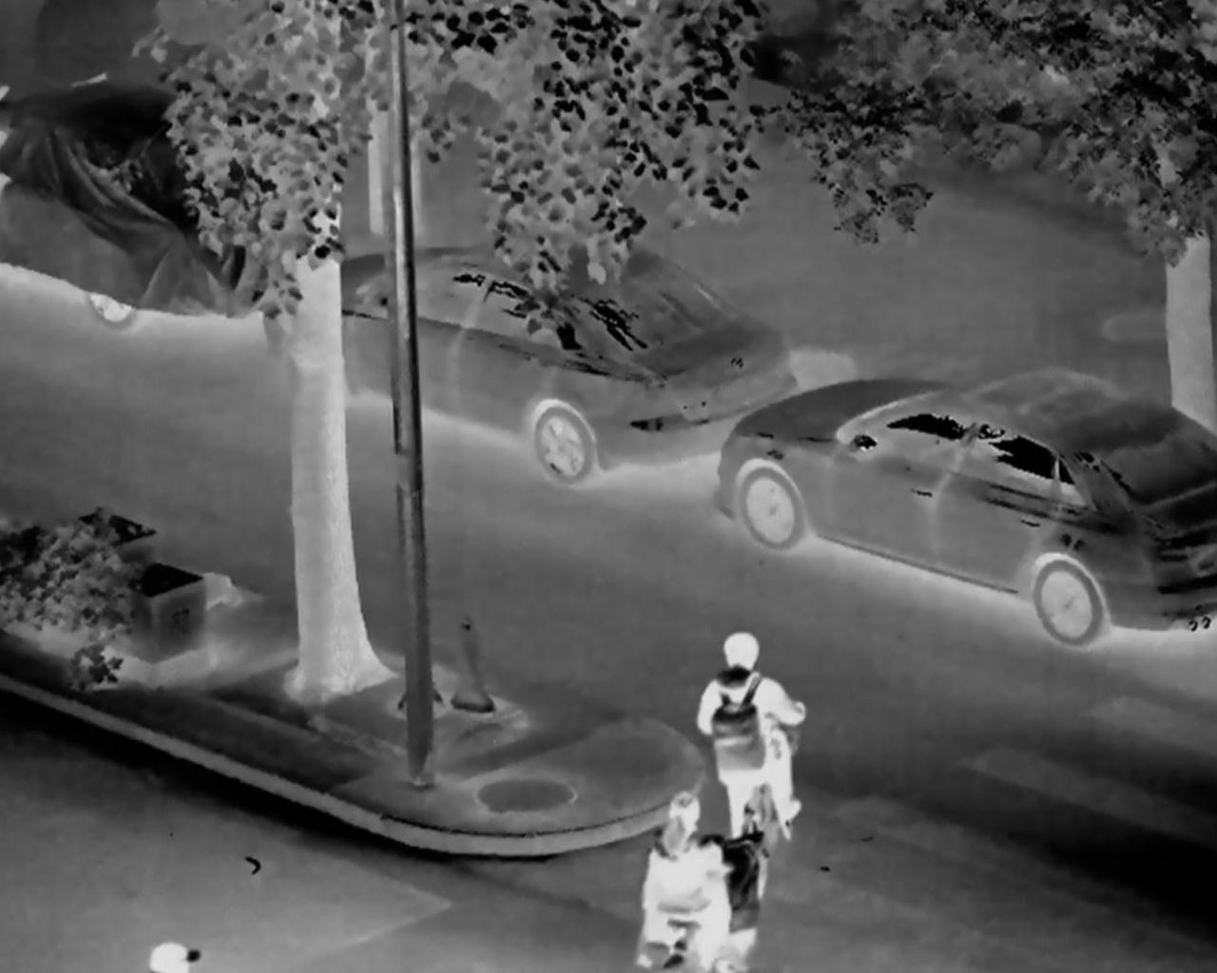person: (693, 628, 813, 840), (638, 788, 748, 973), (133, 929, 202, 973)
